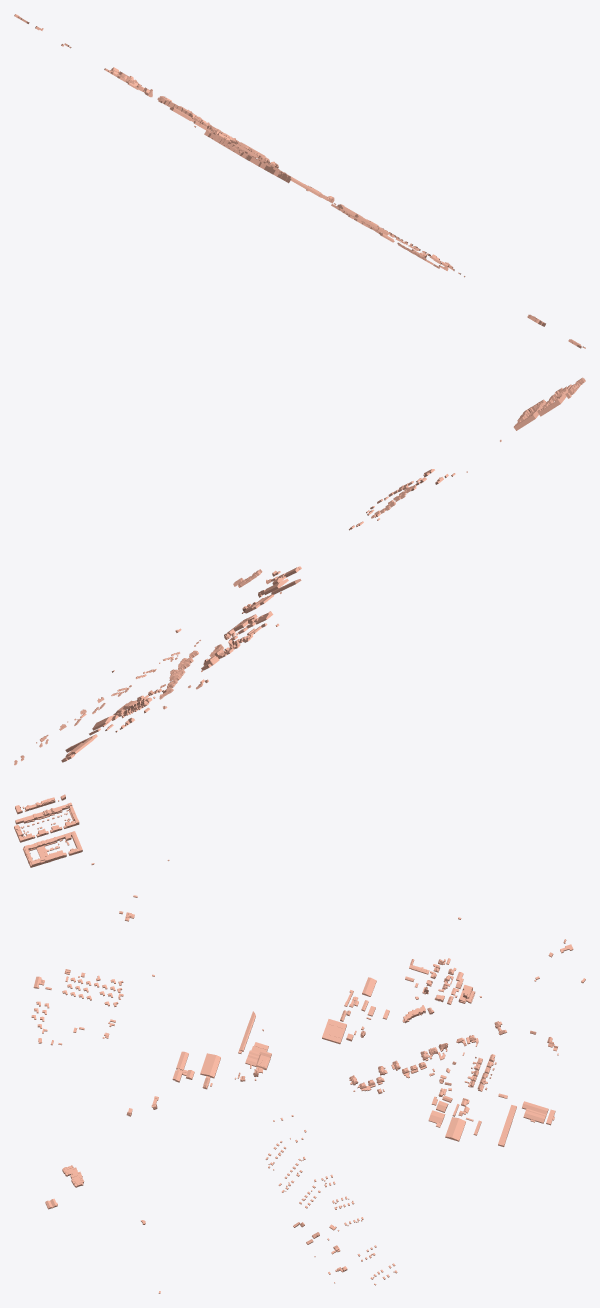
3 views of the same model, one above another, from view 1: azimuth 30°, elevation 25°; view 2: azimuth 150°, elevation 25°; view 3: azimuth 270°, elevation 25° (orthographic). The views are drawn at different scales.
Bounding box in the file's own units: 935 × 748 × 1224.
